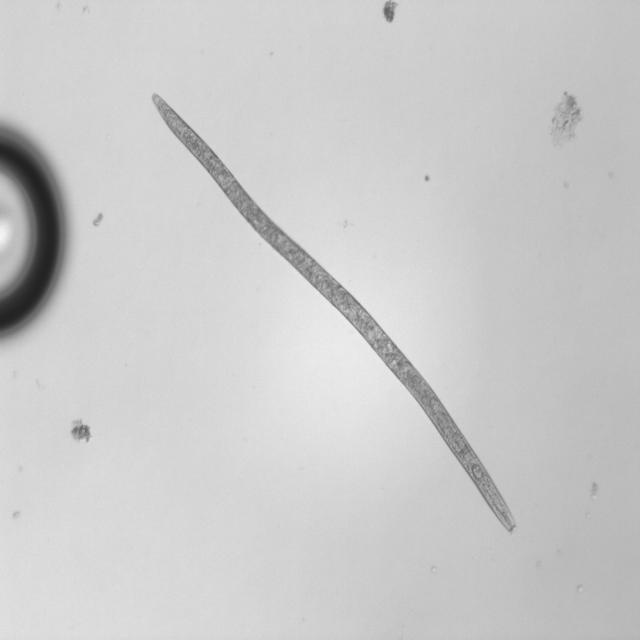Pratylenchus: (150, 82, 519, 536)
